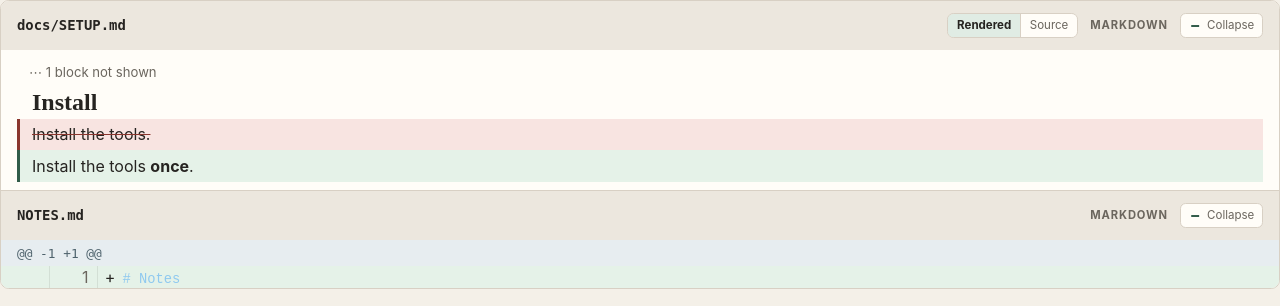
Test: semantic source rendering › renders prepared Markdown diffs with a source toggle
The width and height of the screenshot is (1280, 306).
Expected: the heading "Install" is shown, top-left (32, 88), bottom-right (97, 114)
Expected: the text "⋯ 1 block not shown" is shown, top-left (29, 64), bottom-right (157, 80)
Click the button "Source".
click(1049, 25)  # box top-left (1020, 14), bottom-right (1077, 37)
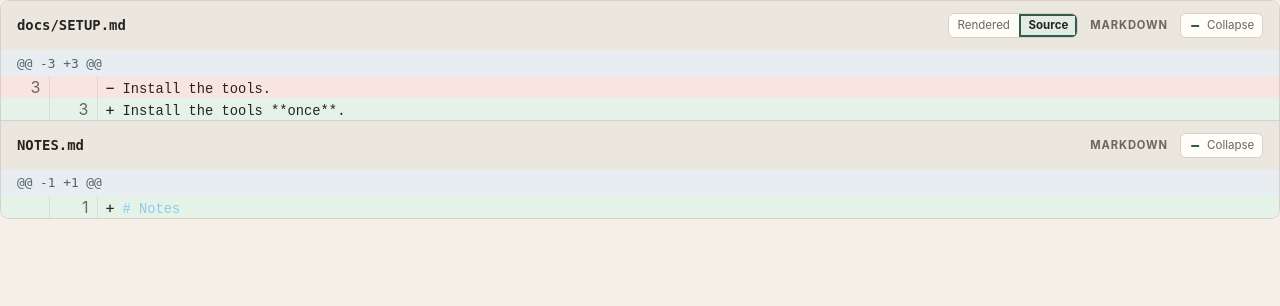
Expected: the number of elements named "View of" is 1, top-left (948, 13), bottom-right (1078, 38)
Now the text "@@ -3 +3 @@" is shown, box top-left (1, 50), bottom-right (1279, 76)
